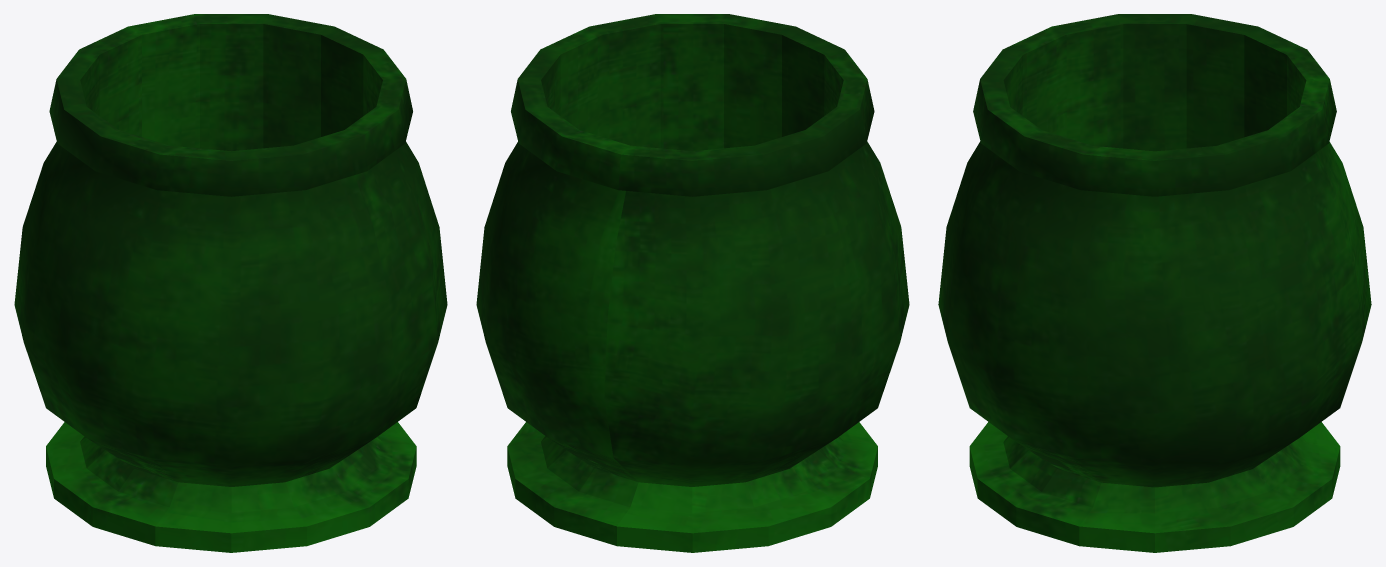
The model's file is Vase1.fbx.
3 renders of one model, left to right at view 1: azimuth 30°, elevation 25°; view 2: azimuth 150°, elevation 25°; view 3: azimuth 270°, elevation 25°, orthographic.
Visible parts, largest first — view 1: Vase_asset; view 2: Vase_asset; view 3: Vase_asset.
Part boxes in pixels (box(x1,y1,x2,y2)): Vase_asset: box(14, 14, 447, 552); Vase_asset: box(476, 14, 909, 552); Vase_asset: box(938, 14, 1371, 552).
Size of the model in its own units: 0.0387 by 0.0385 by 0.0389.
